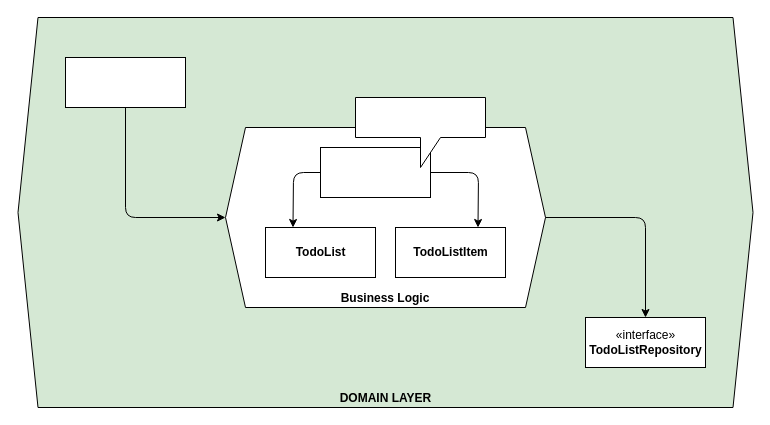
This 770x425 diagram has some shape labels left out. The centre of each missing label's shape, as x and y in pixels:
"Implementation detail!" goes at [420,132].
"TodoListService Impl" goes at [375,172].
"«interface» TodoListService" goes at [125,82].
